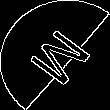M_SE: (18, 21, 92, 89)
